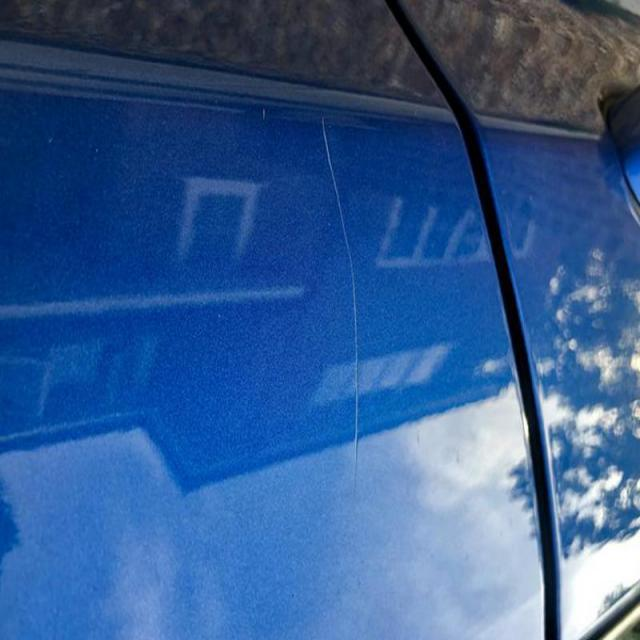scratch: (310, 108, 376, 506)
